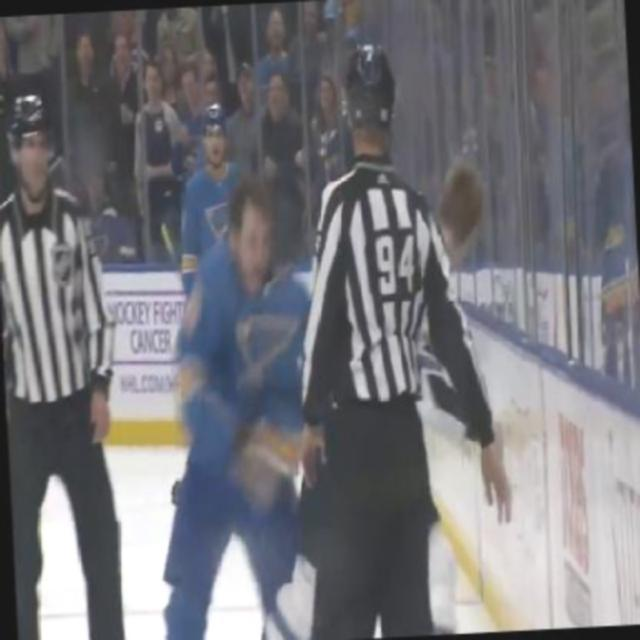fight: (157, 170, 345, 638)
non-fight: (0, 86, 129, 639)
